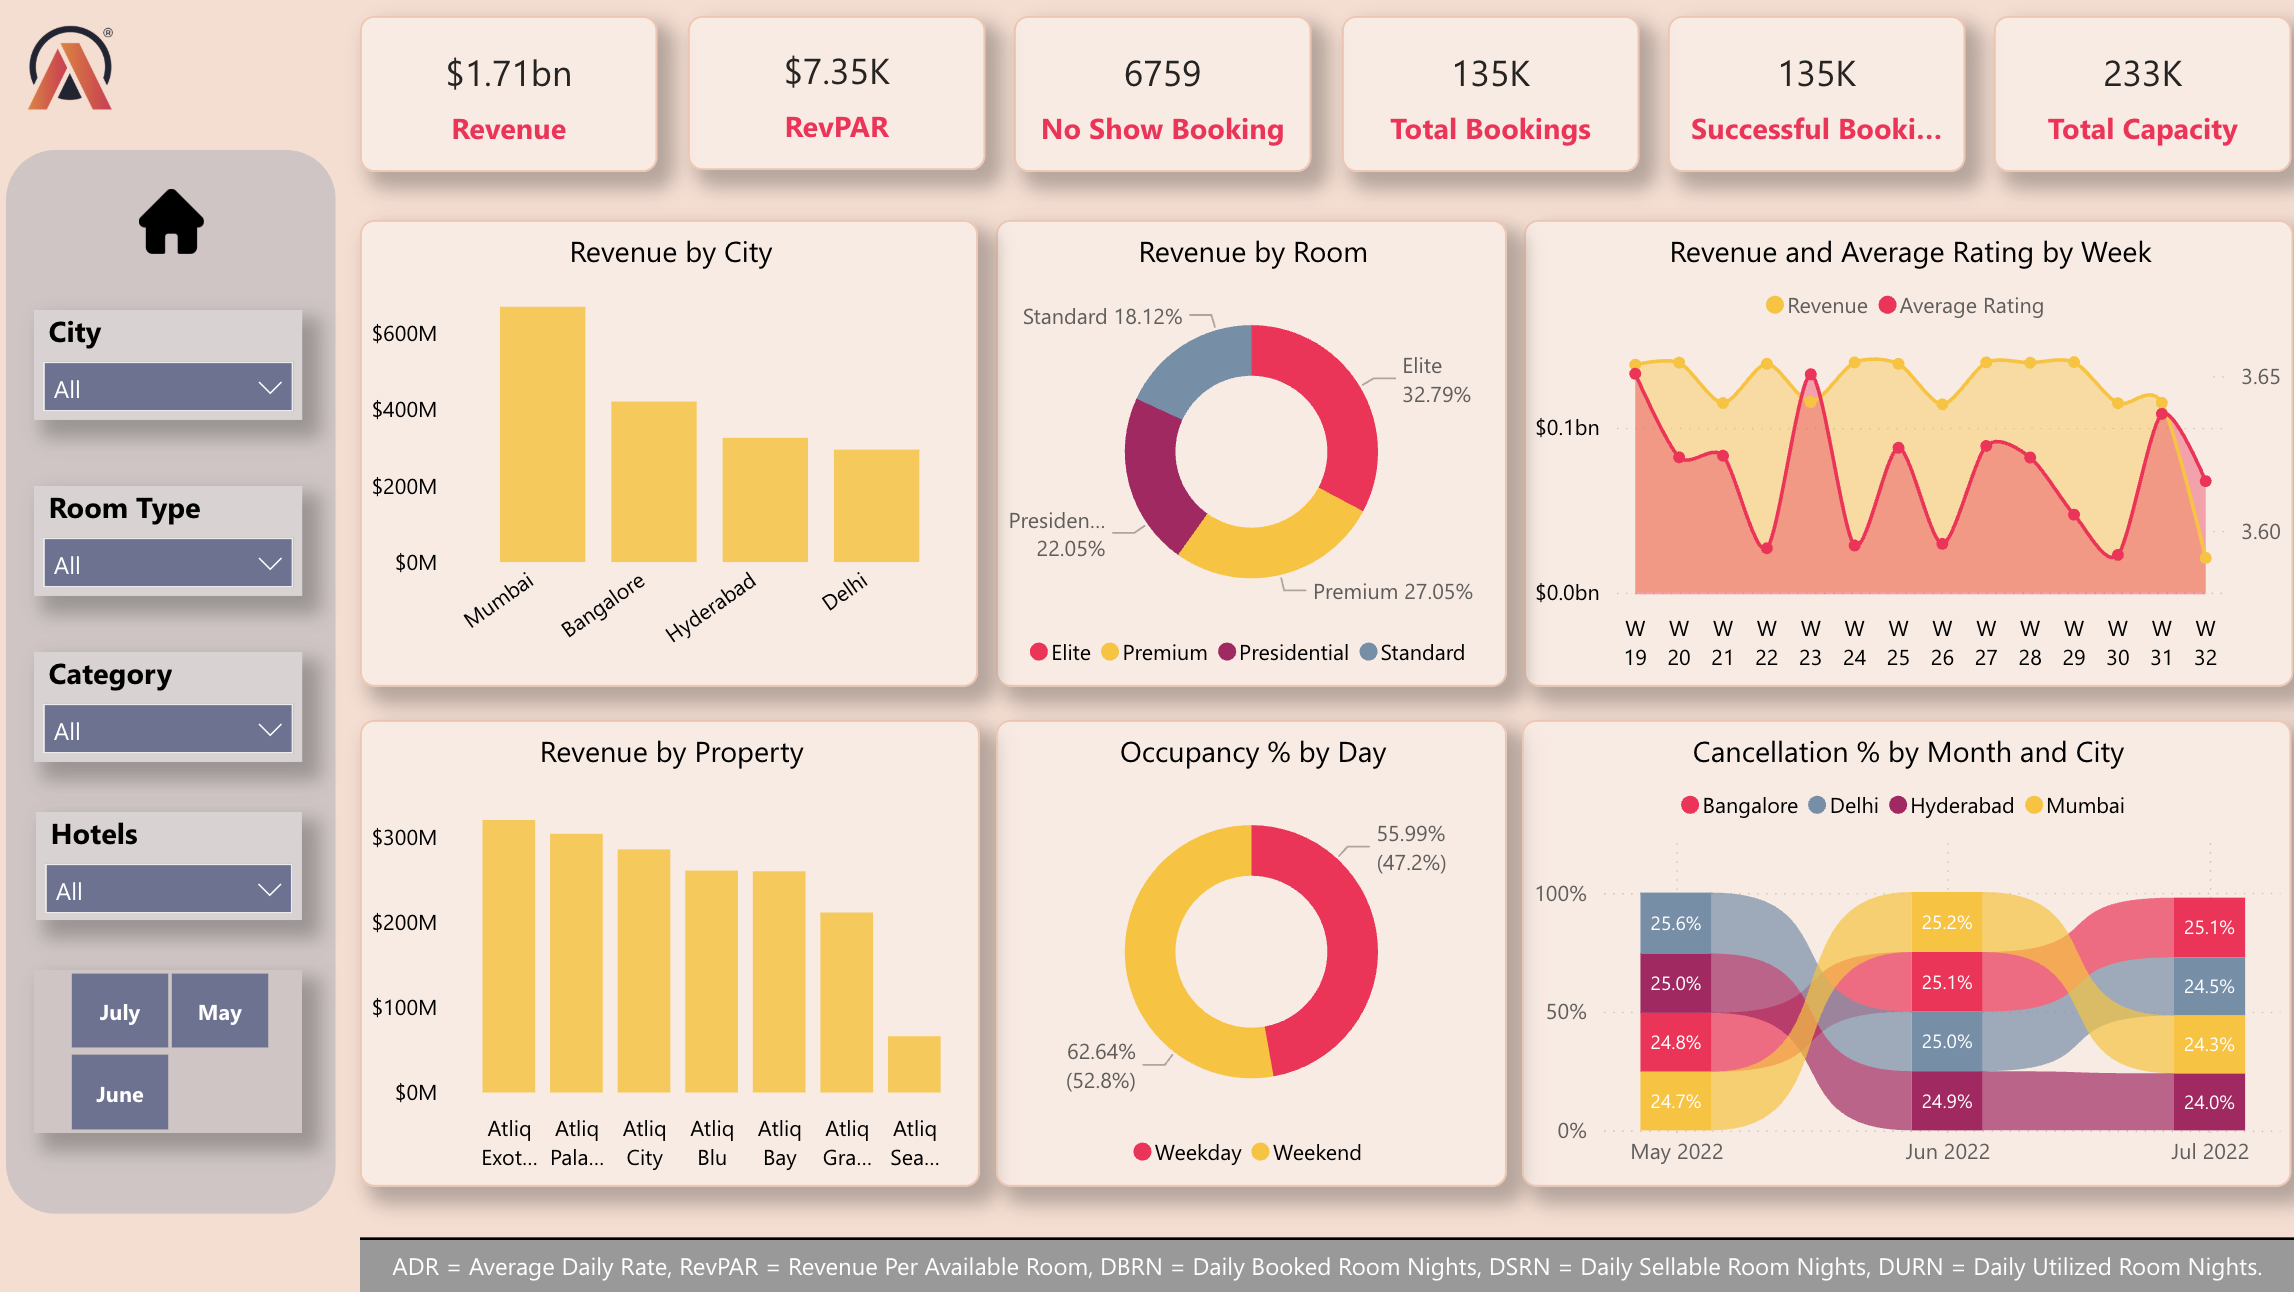

This screenshot's page, from the dashboard's own definition file:
{"tool":"powerbi","page":{"name":"Revenue View","canvas":[1280,720],"ordinal":2},"visuals":[{"type":"columnChart","title":"Revenue by Property","fields":{"Category":["dim_hotels.property_name"],"Y":["Key Measure.Revenue"]},"box":[202.3,401.8,344.1,258.8],"z":0},{"type":"donutChart","title":"Occupancy % by Day","fields":{"Y":["Key Measure.Occupancy %"],"Series":["dim_date.day type"]},"box":[554.7,401.8,283.5,258.8],"z":1000},{"type":"areaChart","title":"Revenue and Average Rating by Week","fields":{"Category":["dim_date.week no"],"Y":["Key Measure.Revenue"],"Y2":["Key Measure.Average Rating"]},"box":[847.8,124.9,427.1,258.8],"z":2000},{"type":"ribbonChart","title":"Cancellation % by Month and City","fields":{"Y":["Key Measure.Cancellation %"],"Category":["dim_date.mmm yy"],"Series":["dim_hotels.city"]},"box":[847.3,402.3,427.1,258.8],"z":3000},{"type":"card","fields":{"Values":["Key Measure.Total Bookings"]},"box":[746.6,11,165,86.7],"z":4000},{"type":"card","fields":{"Values":["Key Measure.Total Sucessful Bookings"]},"box":[928,11,165,86.7],"z":5000},{"type":"card","fields":{"Values":["Key Measure.Total Capacity"]},"box":[1109.3,11,165.2,86.7],"z":6000},{"type":"card","fields":{"Values":["Key Measure.Total no show booking"]},"box":[565.2,11,165,86.7],"z":7000},{"type":"shape","box":[5.5,85.3,183.1,590.5],"z":8000},{"type":"slicer","fields":{"Values":["dim_date.month"]},"box":[20.6,540.5,148.9,90.4],"z":9000},{"type":"slicer","fields":{"Values":["dim_hotels.city"]},"box":[20.6,174.6,148.9,61.2],"z":10000},{"type":"slicer","fields":{"Values":["dim_rooms.room_class"]},"box":[20.6,272,148.9,61.2],"z":11000},{"type":"slicer","fields":{"Values":["dim_hotels.category"]},"box":[20.6,363.8,148.9,61.2],"z":12000},{"type":"slicer","fields":{"Values":["dim_hotels.property_name"]},"box":[22,452.9,147.5,59.8],"z":13000},{"type":"image","box":[12.4,9.6,59.2,59.2],"z":14000},{"type":"image","box":[74,102,45.8,45.8],"z":15000},{"type":"donutChart","title":"Revenue by Room","fields":{"Category":["dim_rooms.room_class"],"Y":["Key Measure.Revenue"]},"box":[555.2,124.5,283.5,258.8],"z":16000},{"type":"clusteredColumnChart","title":"Revenue by City","fields":{"Y":["Key Measure.Revenue"],"Category":["dim_hotels.city"]},"box":[201.7,124.4,343.2,258.9],"z":17000},{"type":"card","fields":{"Values":["Key Measure.Revenue"]},"box":[202.3,11,165.2,86.7],"z":18000},{"type":"card","fields":{"Values":["Key Measure.RevPAR"]},"box":[383.9,11,165,85.3],"z":19000},{"type":"shape","box":[202.3,684,1077.7,12.4],"z":20000},{"type":"textbox","box":[202.3,690.9,1077.7,28.9],"z":21000}]}

Visuals, with their boxes in screenshot pixels (x1, y1, x2, y2), scaled from the page's 1280x720 canvas onto the 2294x1292 screenshot:
"Revenue by Property" columnChart: l=363, t=721, r=979, b=1185
"Occupancy % by Day" donutChart: l=994, t=721, r=1502, b=1185
"Revenue and Average Rating by Week" areaChart: l=1519, t=224, r=2285, b=689
"Cancellation % by Month and City" ribbonChart: l=1519, t=722, r=2284, b=1186
card - Key Measure.Total Bookings: l=1338, t=20, r=1634, b=175
card - Key Measure.Total Sucessful Bookings: l=1663, t=20, r=1959, b=175
card - Key Measure.Total Capacity: l=1988, t=20, r=2284, b=175
card - Key Measure.Total no show booking: l=1013, t=20, r=1309, b=175
shape: l=10, t=153, r=338, b=1213
slicer - dim_date.month: l=37, t=970, r=304, b=1132
slicer - dim_hotels.city: l=37, t=313, r=304, b=423
slicer - dim_rooms.room_class: l=37, t=488, r=304, b=598
slicer - dim_hotels.category: l=37, t=653, r=304, b=763
slicer - dim_hotels.property_name: l=39, t=813, r=304, b=920
image: l=22, t=17, r=128, b=123
image: l=133, t=183, r=215, b=265
"Revenue by Room" donutChart: l=995, t=223, r=1503, b=688
"Revenue by City" clusteredColumnChart: l=361, t=223, r=977, b=688
card - Key Measure.Revenue: l=363, t=20, r=659, b=175
card - Key Measure.RevPAR: l=688, t=20, r=984, b=173
shape: l=363, t=1227, r=2293, b=1250
textbox: l=363, t=1240, r=2293, b=1291
